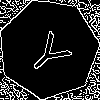Y: (23, 24, 80, 80)
